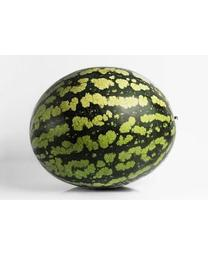watermelon: (29, 65, 178, 189)
